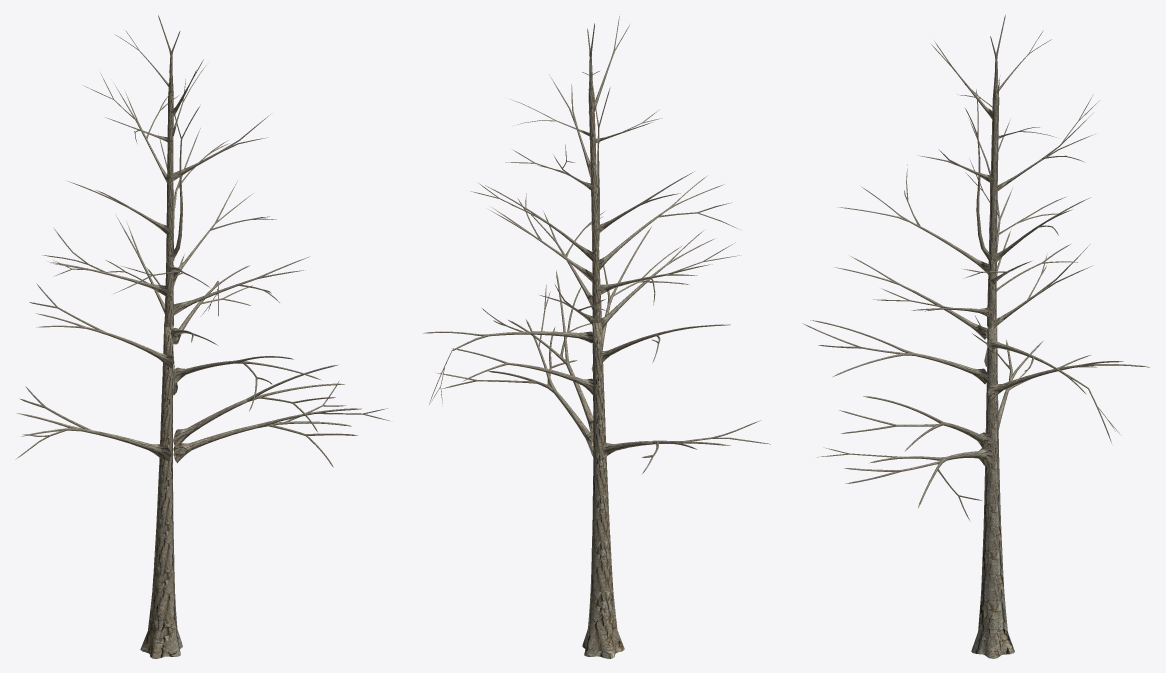
File: Tree4.glb
3 views of the same model, side by side, from view 1: azimuth 30°, elevation 25°; view 2: azimuth 150°, elevation 25°; view 3: azimuth 270°, elevation 25° (orthographic).
Parts seen in each view (by area): view 1: tronc_bas, tronc_haut, bark10_0.045, bark10_0.012, bark10_0.014, bark10_0.008, bark10_0.010, bark10_0.005; view 2: tronc_bas, tronc_haut, bark10_0.045, bark10_0.001, bark10_0.013, bark10_0.015; view 3: tronc_bas, tronc_haut, bark10_0.012, bark10_0.045, bark10_0.013, bark10_0.015, bark10_0.009, bark10_0.
Boxes of the visible parts, <box> form: tronc_bas: <box>140,322,182,658</box>; tronc_haut: <box>158,15,180,326</box>; bark10_0.045: <box>173,408,361,463</box>; bark10_0.012: <box>171,356,320,383</box>; bark10_0.014: <box>35,313,174,367</box>; bark10_0.008: <box>173,399,247,447</box>; bark10_0.010: <box>173,256,309,315</box>; bark10_0.005: <box>98,431,171,460</box>; tronc_bas: <box>582,322,624,658</box>; tronc_haut: <box>587,23,601,324</box>; bark10_0.045: <box>488,319,593,456</box>; bark10_0.001: <box>423,331,592,350</box>; bark10_0.013: <box>452,348,593,394</box>; bark10_0.015: <box>601,230,714,329</box>; tronc_bas: <box>971,325,1014,658</box>; tronc_haut: <box>987,15,1005,327</box>; bark10_0.012: <box>810,320,988,383</box>; bark10_0.045: <box>870,448,993,508</box>; bark10_0.013: <box>987,361,1149,400</box>; bark10_0.015: <box>833,256,987,339</box>; bark10_0.009: <box>837,186,990,275</box>; bark10_0: <box>965,89,991,262</box>.
Bounding box in the file's own units: 3.61 × 6.55 × 3.27.
4 materials, 4 textured.
